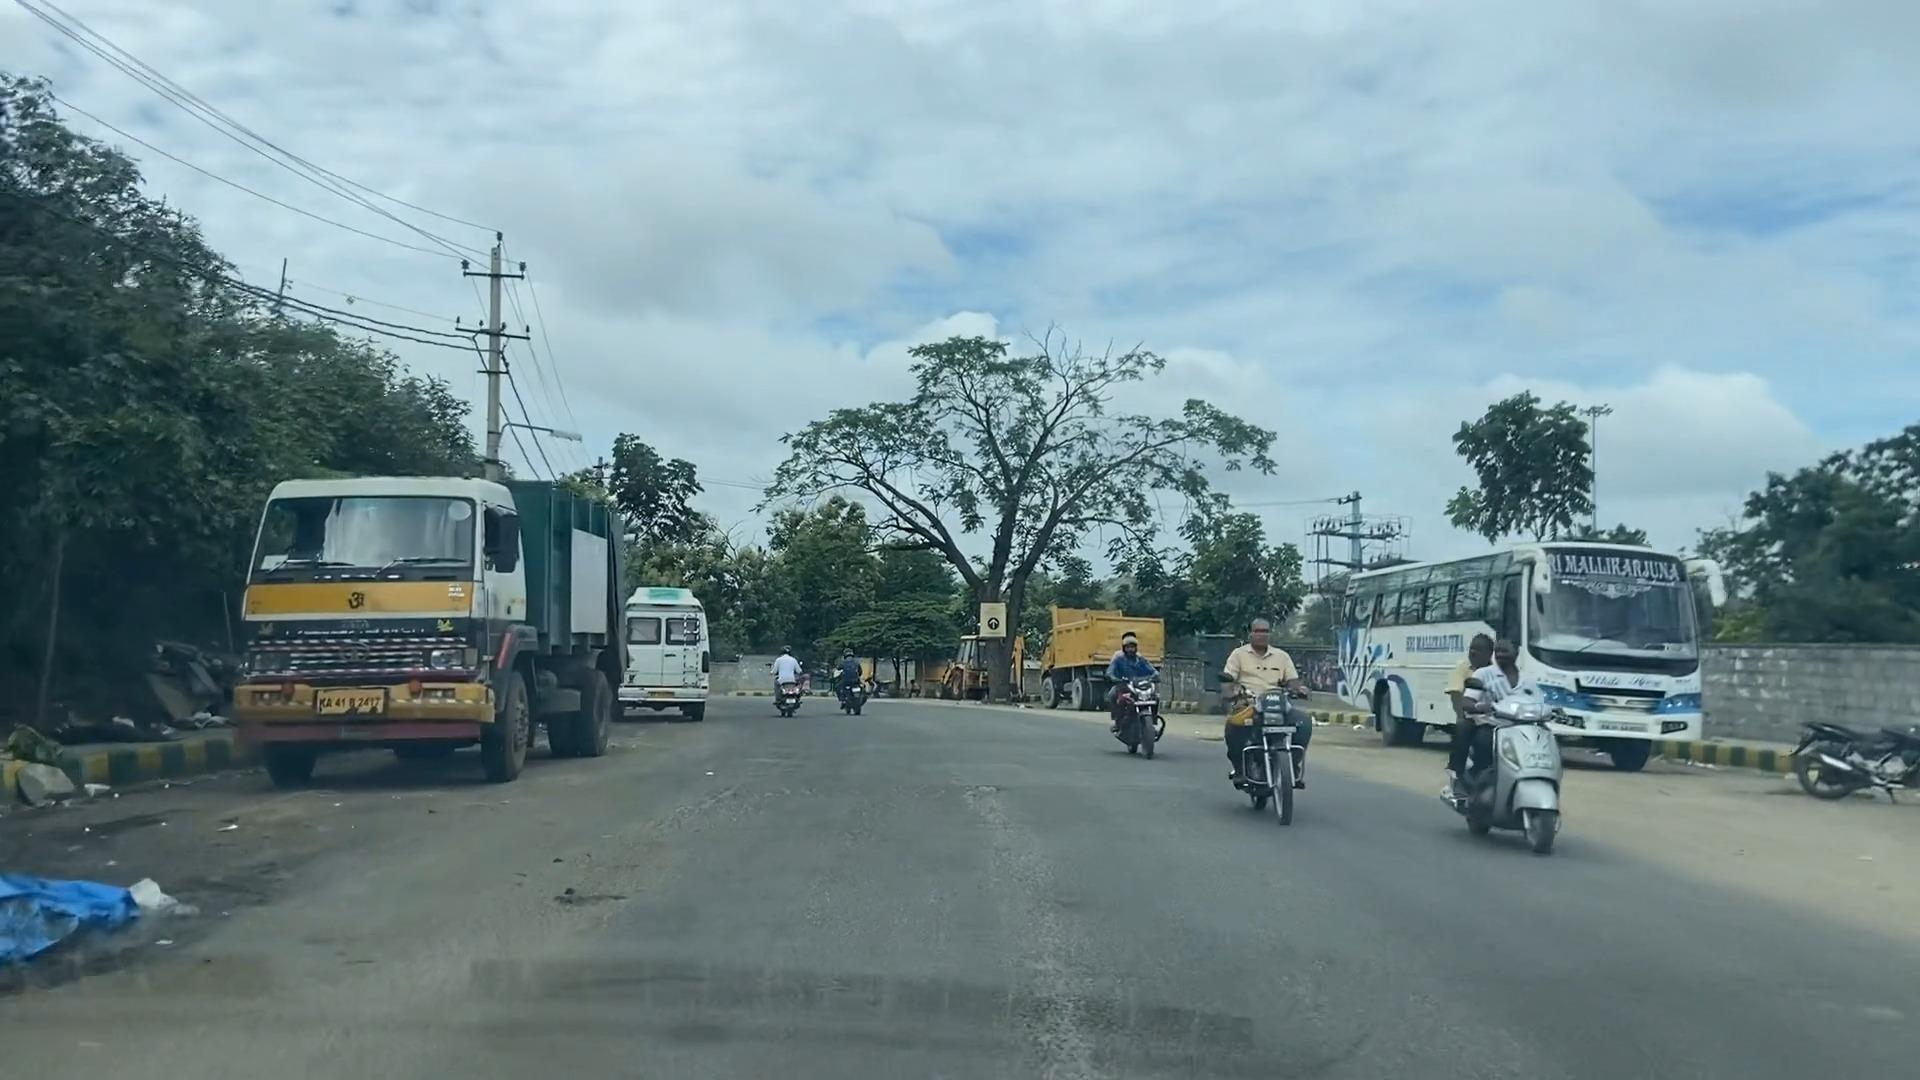HMV: (229, 467, 634, 782), (1337, 545, 1718, 781), (1031, 600, 1172, 716), (626, 578, 735, 728)
LMV: (1436, 616, 1578, 866), (1205, 593, 1323, 833), (1746, 686, 1920, 798), (1088, 616, 1174, 777), (825, 583, 893, 746), (757, 611, 829, 745)
RoadDamages: (911, 856, 1163, 1069)
